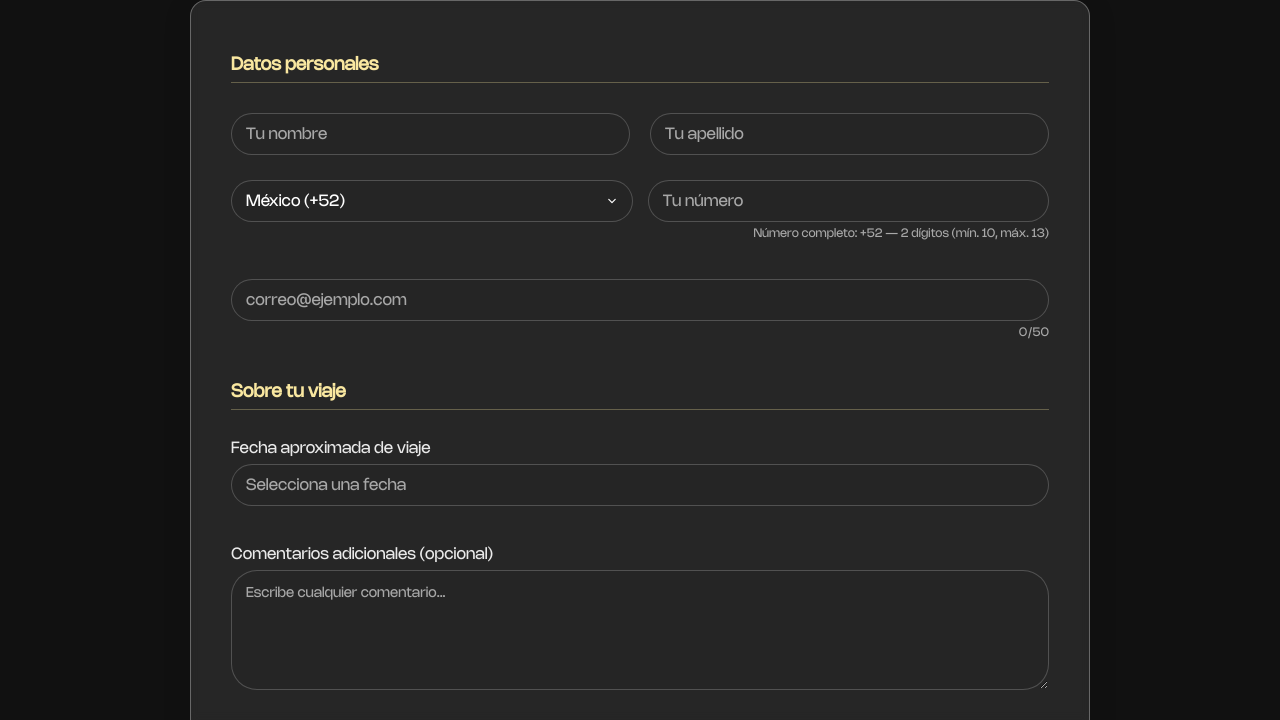
Test case: Form Component › Form Validation - Email › should reject email without @ symbol
Step 1. Type "Juan" into the field with placeholder "Tu nombre" → {"x": 430, "y": 134}, box [231,113,630,155]
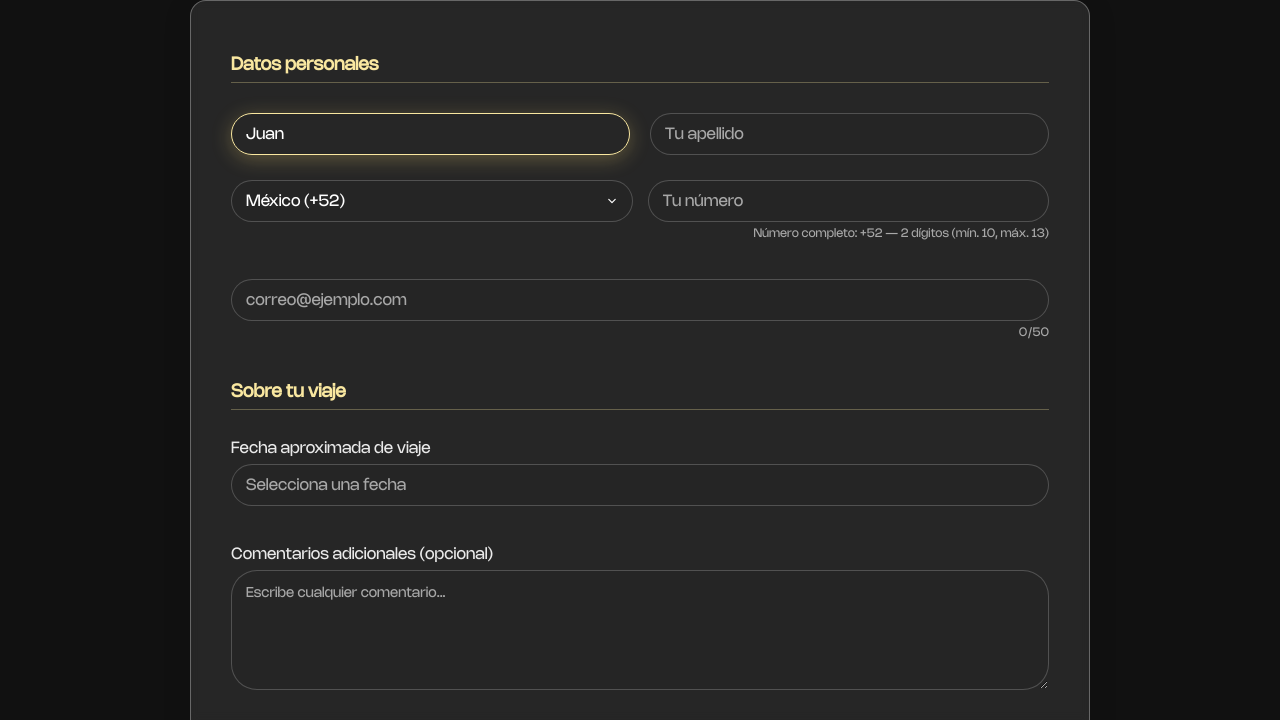
Step 2. Type "Pérez" into the field with placeholder "Tu apellido" → {"x": 850, "y": 134}, box [650,113,1049,155]
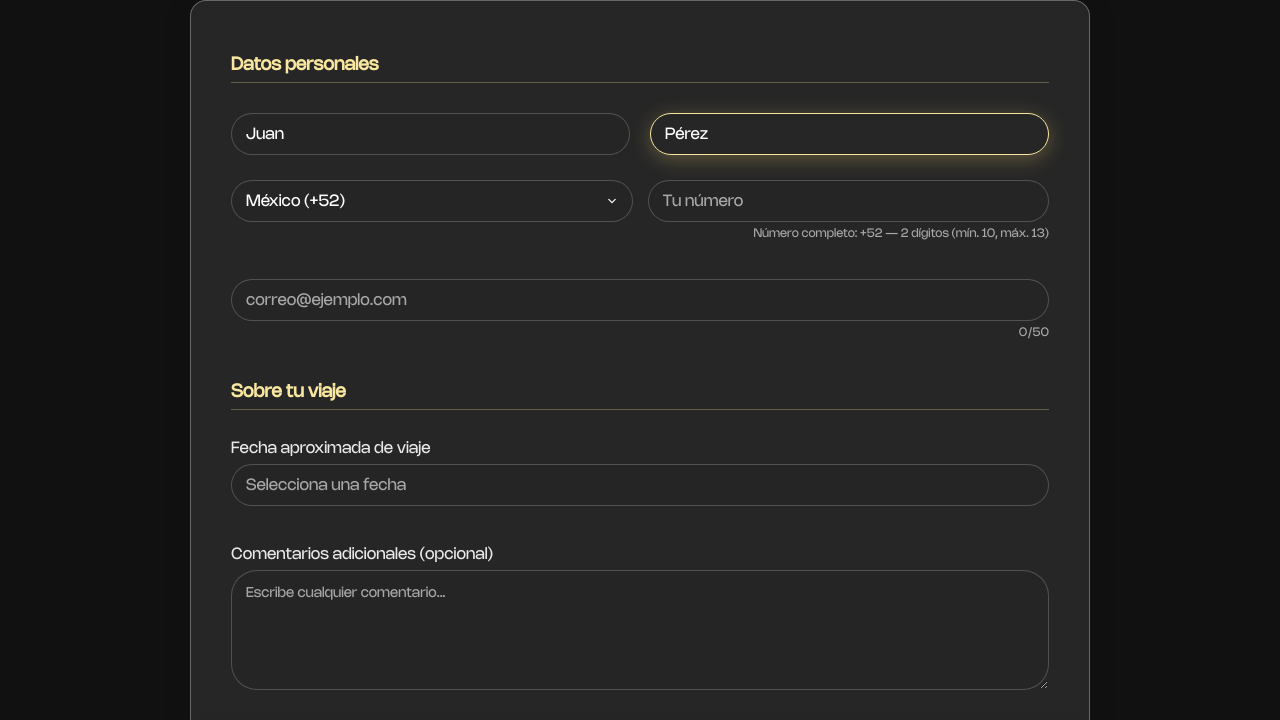
Step 3. Type "5512345678" into the field with placeholder "Tu número" → {"x": 848, "y": 201}, box [648,180,1049,222]
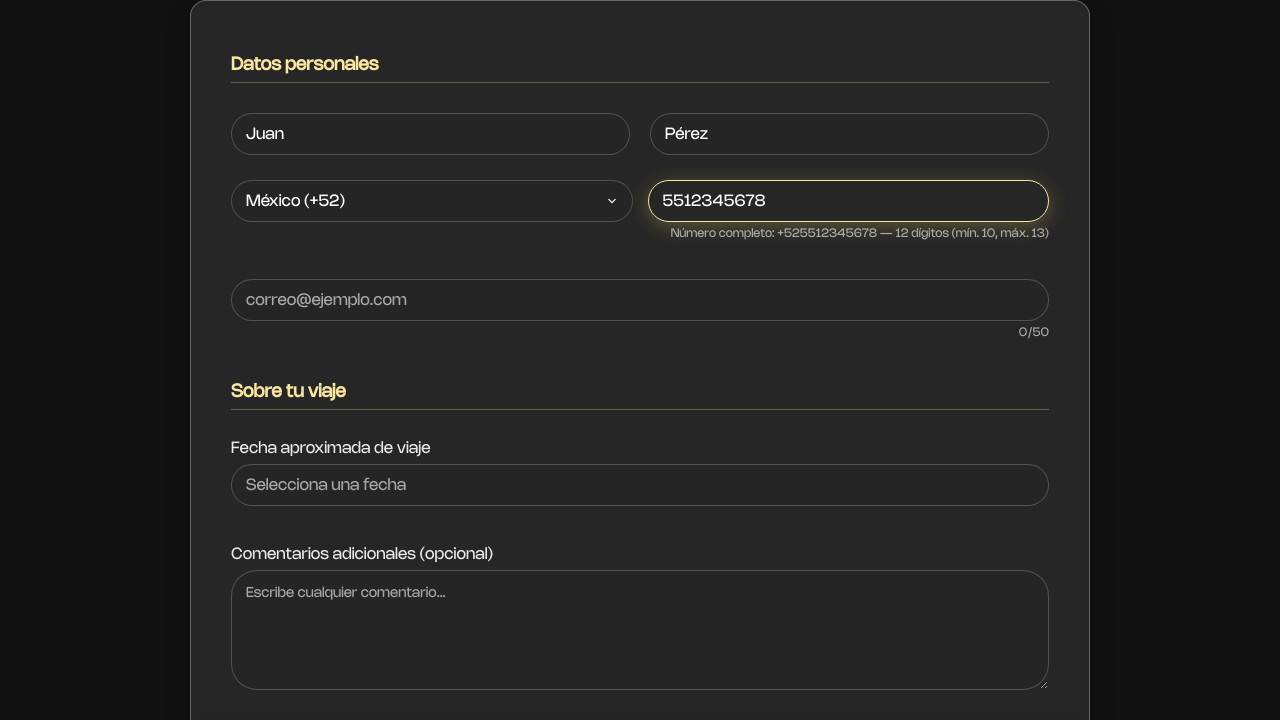
Step 4. Type "testemail.com" into the field with placeholder "correo@ejemplo.com" → {"x": 640, "y": 300}, box [231,279,1049,321]
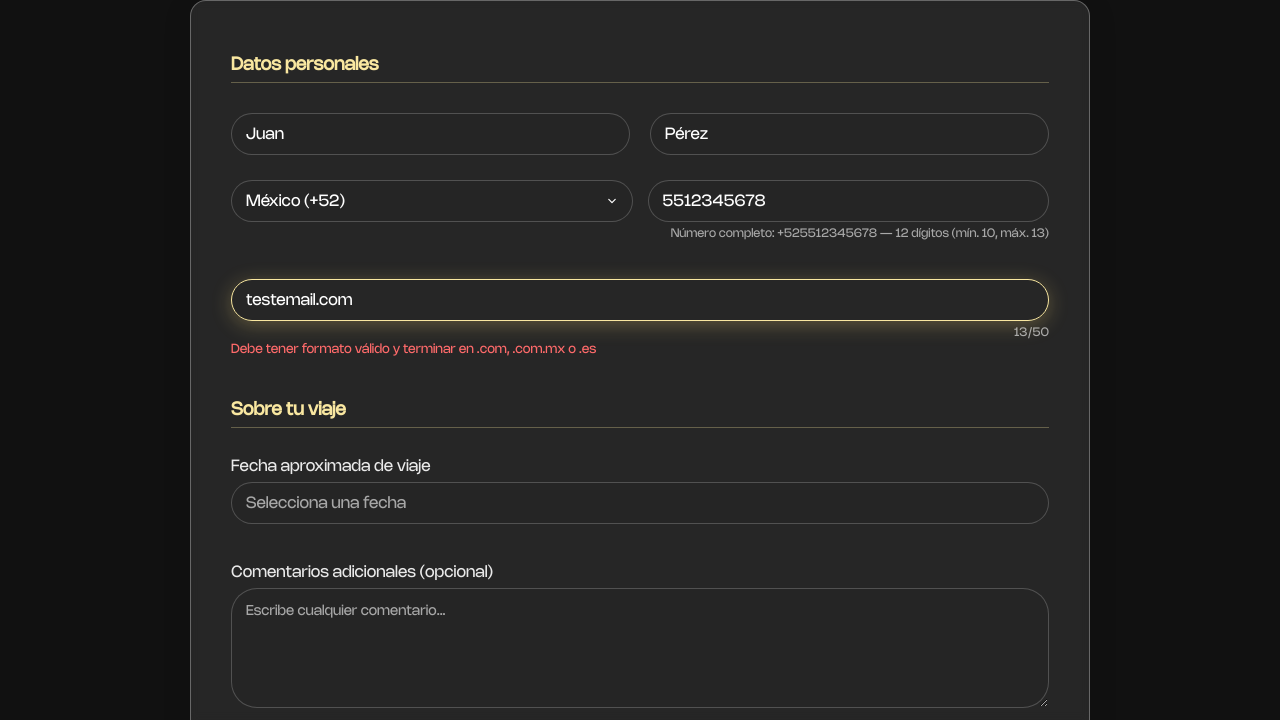
expect the text "Debe tener formato válido y terminar en .com, .com.mx o .es" is shown: met, box [231,343,596,356]
